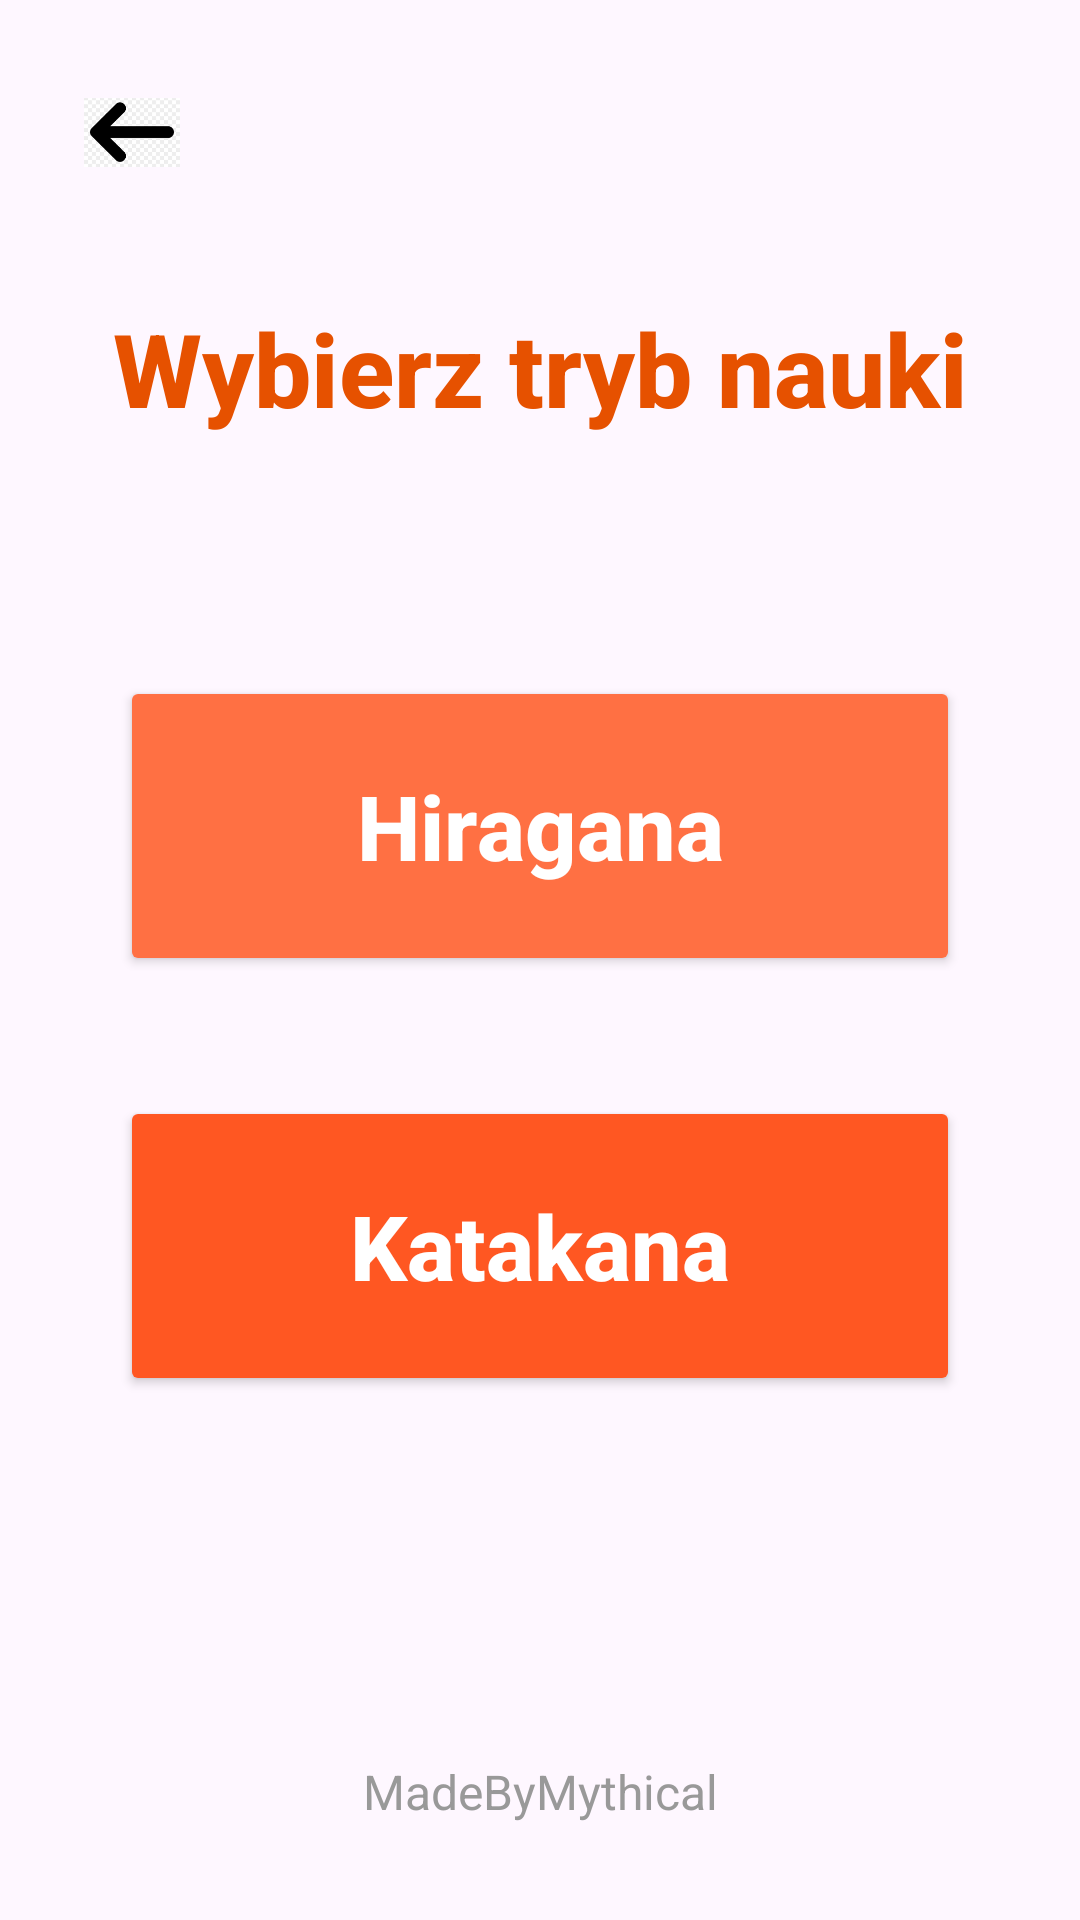

Where icons sit on this 1080×1920 app screen, as (x1, y1, x2, y2):
Powrót: (90, 102, 174, 162)
